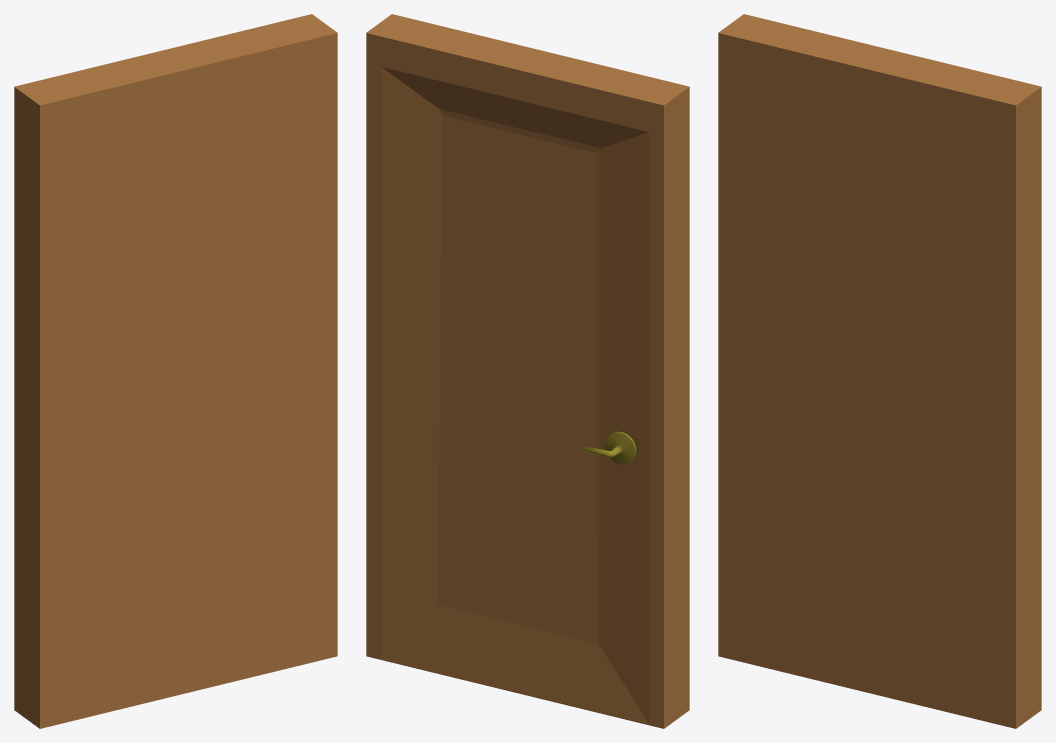
Rendered from door.fbx.
The picture shows the model from 3 angles, left to right: view 1: azimuth 30°, elevation 25°; view 2: azimuth 150°, elevation 25°; view 3: azimuth 330°, elevation 25°; orthographic projection.
Visible parts, largest first — view 1: Door, Kosyak; view 2: Door, Kosyak, Handle; view 3: Door, Kosyak.
Boxes of the visible parts, left/top/right/bottom form: Door: left=55, top=66, right=322, bottom=724; Kosyak: left=14, top=14, right=337, bottom=728; Door: left=381, top=66, right=648, bottom=724; Kosyak: left=366, top=14, right=689, bottom=728; Handle: left=583, top=430, right=637, bottom=464; Door: left=733, top=66, right=1000, bottom=724; Kosyak: left=718, top=14, right=1041, bottom=728.
Bounding box in the file's own units: 200 × 400 × 45.34.
